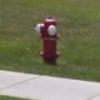a fire hydrant: (36, 16, 62, 64)
